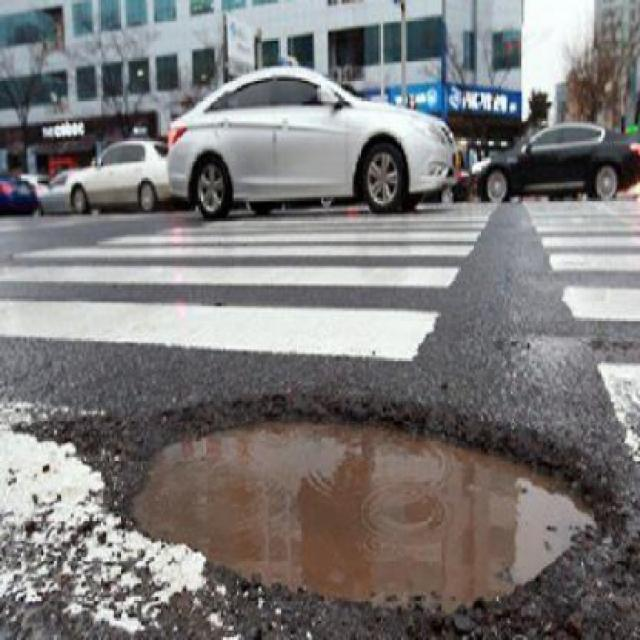Pothole: (108, 387, 623, 628)
